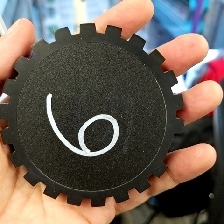gear: (1, 21, 185, 208)
missing: (150, 117, 185, 180)
